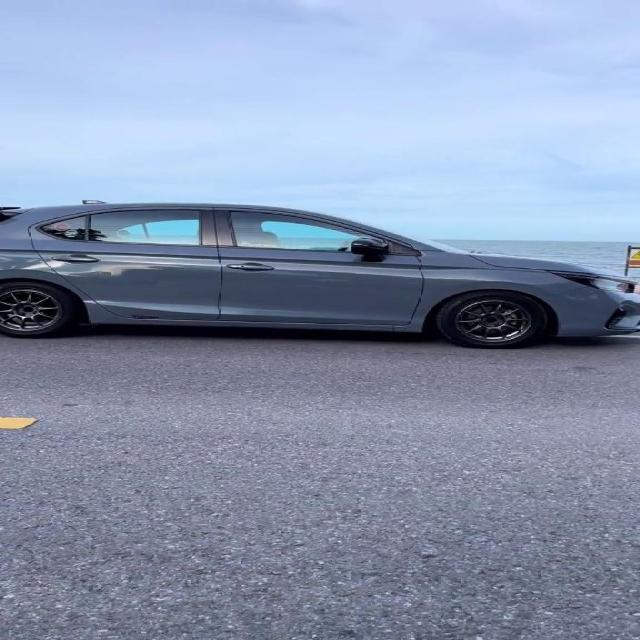Hatchback: (0, 201, 639, 349)
